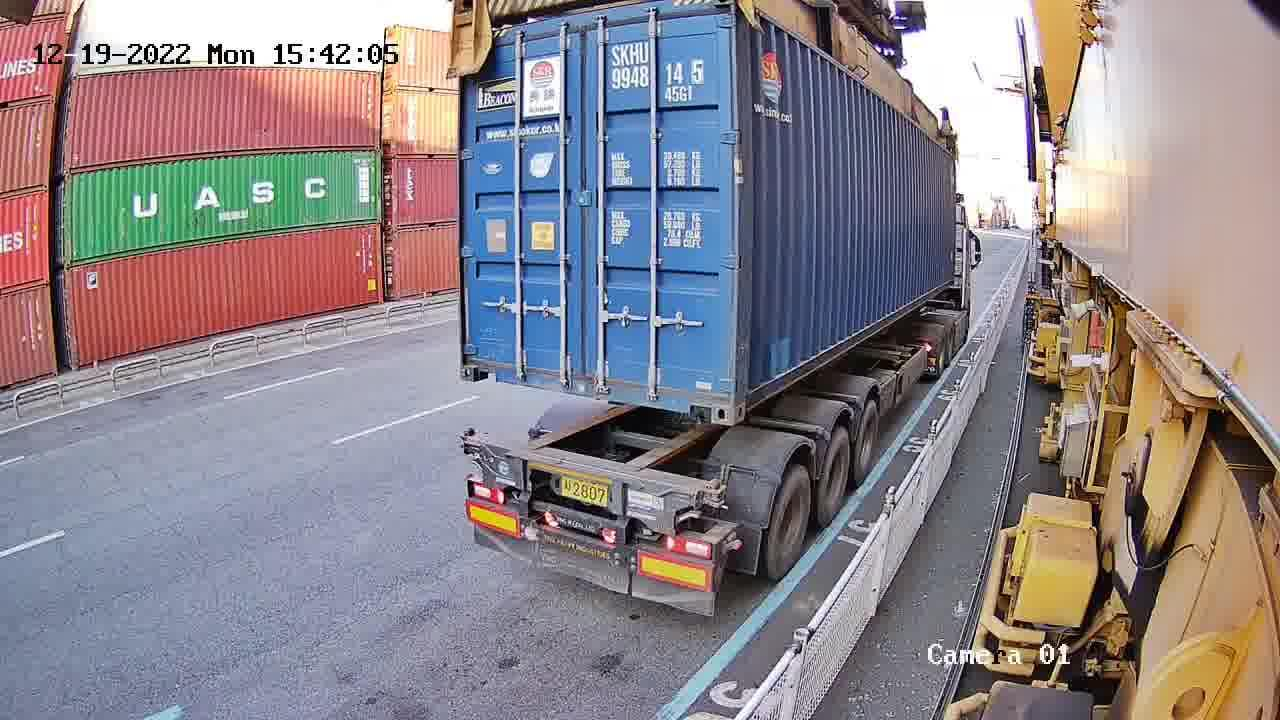Chassis: (462, 433, 714, 533)
Cone: (701, 477, 723, 510), (461, 423, 476, 458)
Hole_L: (734, 355, 770, 426), (458, 337, 502, 383)
Hole_R: (684, 366, 735, 428)
Tire: (767, 469, 813, 576), (818, 429, 852, 523), (855, 403, 878, 482)
